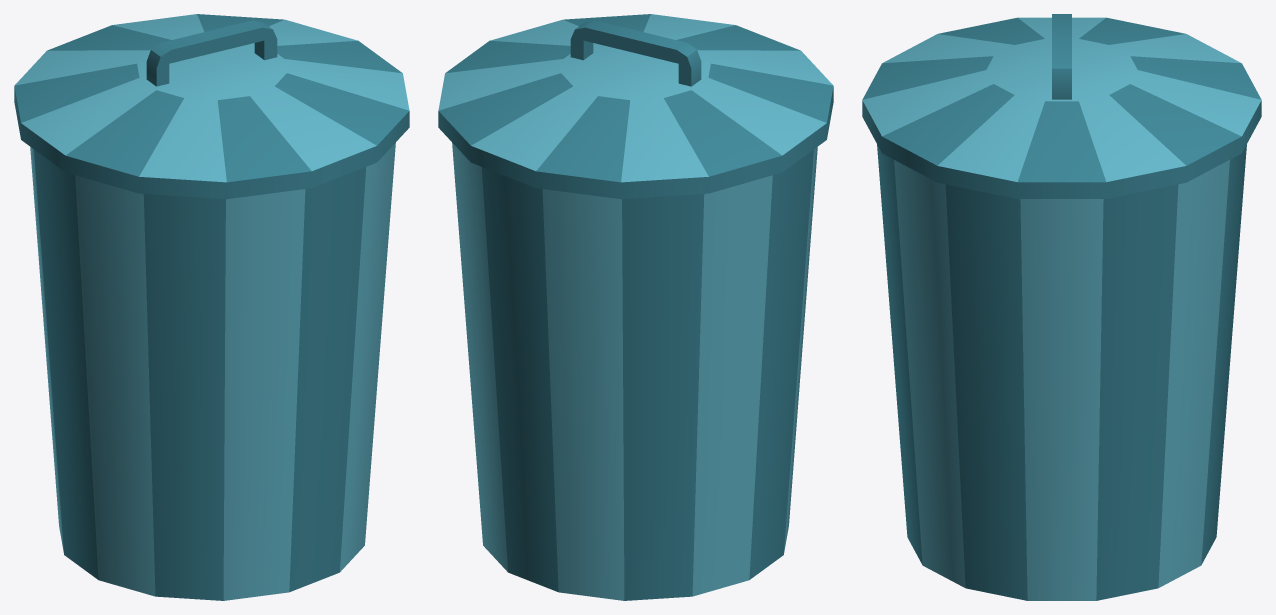
File: trashbin01.fbx
The picture shows the model from 3 angles, left to right: view 1: azimuth 30°, elevation 25°; view 2: azimuth 150°, elevation 25°; view 3: azimuth 270°, elevation 25°; orthographic projection.
Visible parts, largest first — view 1: trashbin01; view 2: trashbin01; view 3: trashbin01.
Part boxes in pixels (x1=…): trashbin01: x1=14, y1=14, x2=409, y2=600; trashbin01: x1=438, y1=14, x2=833, y2=600; trashbin01: x1=862, y1=14, x2=1261, y2=600.
Size of the model in its own units: 101 by 143 by 103.
